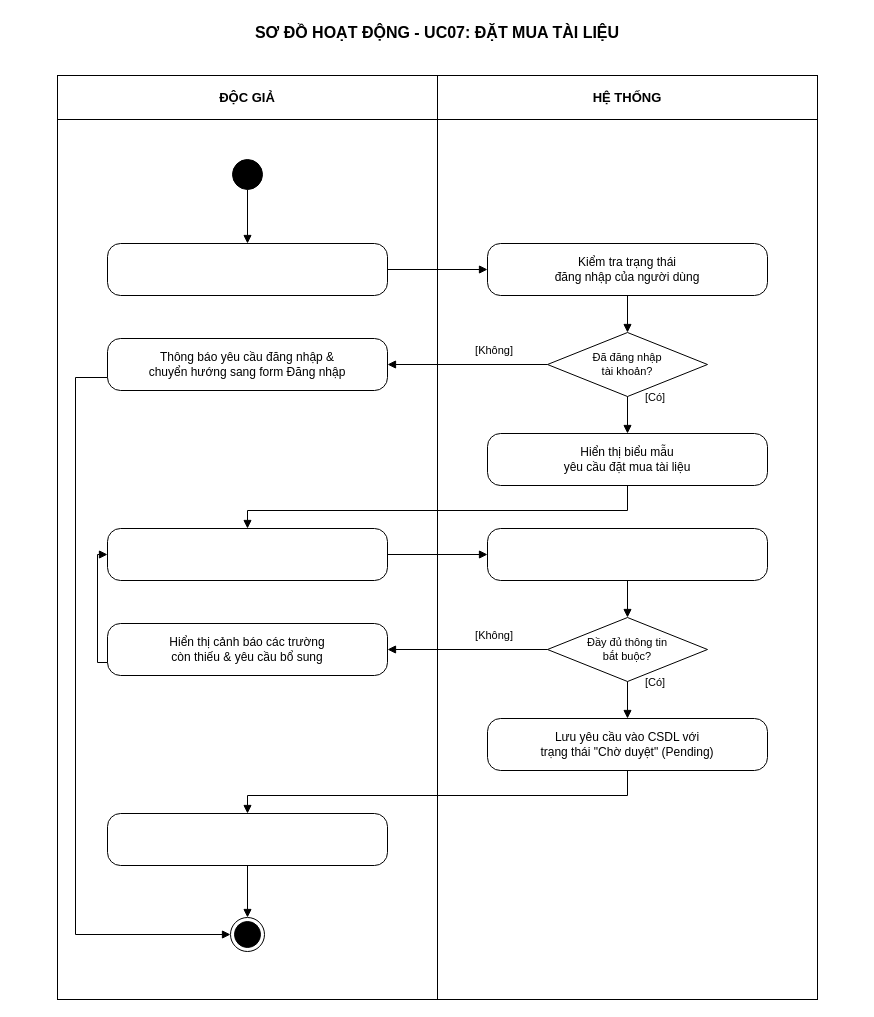
This 874x1017 diagram has some shape labels left out. The shapes that lost their labels are listed below. From the top down, each one's centre as x and y in pixels, then its label:
[247,269]: Chọn chức năng "Yêu cầu đặt mua tài liệu"
[247,554]: Điền thông tin (Tên sách, Tác giả, Năm XB, Lý do) & bấm "Gửi yêu cầu"
[627,554]: Kiểm tra dữ liệu nhập & các trường thông tin bắt buộc
[247,839]: Nhận thông báo gửi thành công & theo dõi tiến độ duyệt đề xuất
